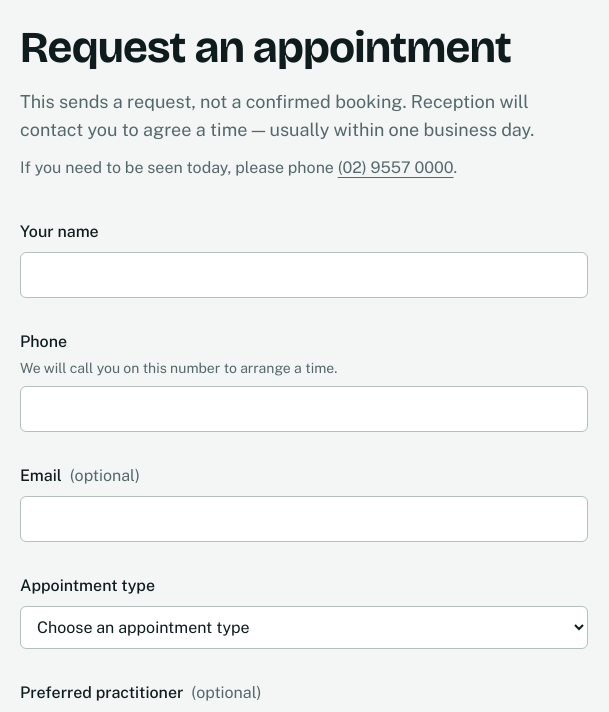
Scenario: Book › preserves what was typed when the network fails
Type "Jo Nguyen" into the field labelled "Your name" at [304, 274], box [20,252,588,298]
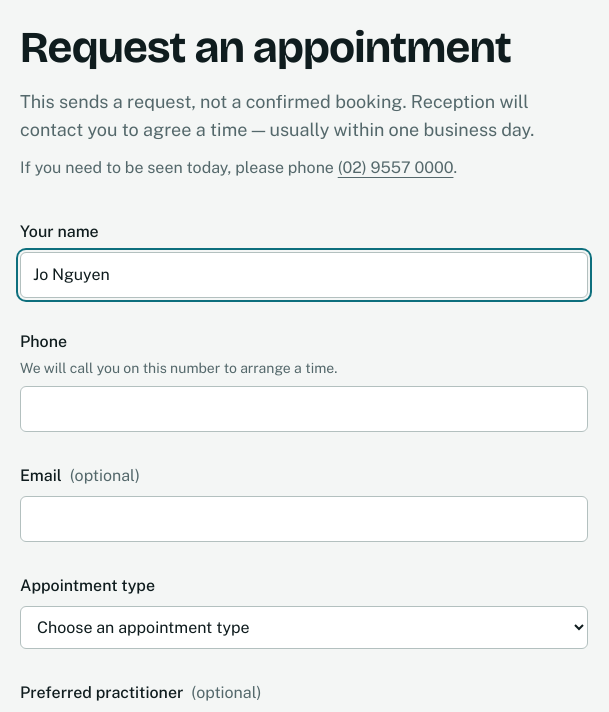
Type "0412345678" into the field labelled "Phone" at [304, 408], box [20,386,588,432]
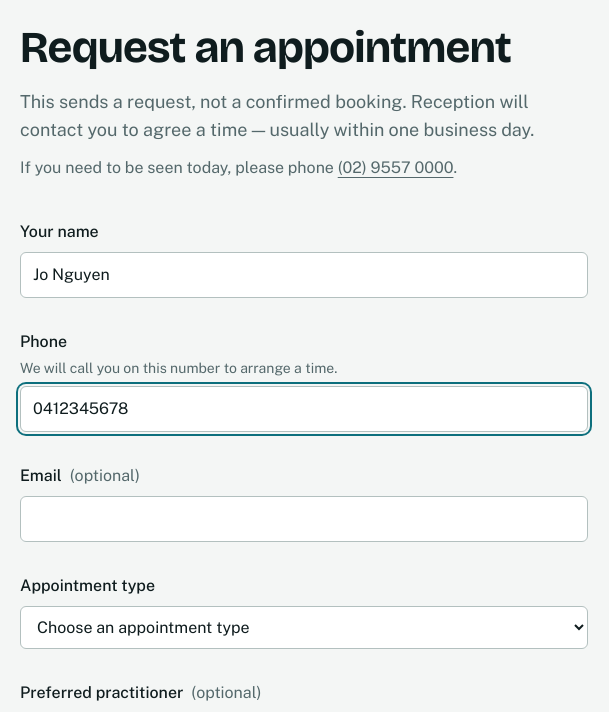
Select "Initial physiotherapy consultation — 45 min, $145" in the dropdown labelled "Appointment type" at [304, 627], box [20,606,588,648]
(page scrolled)
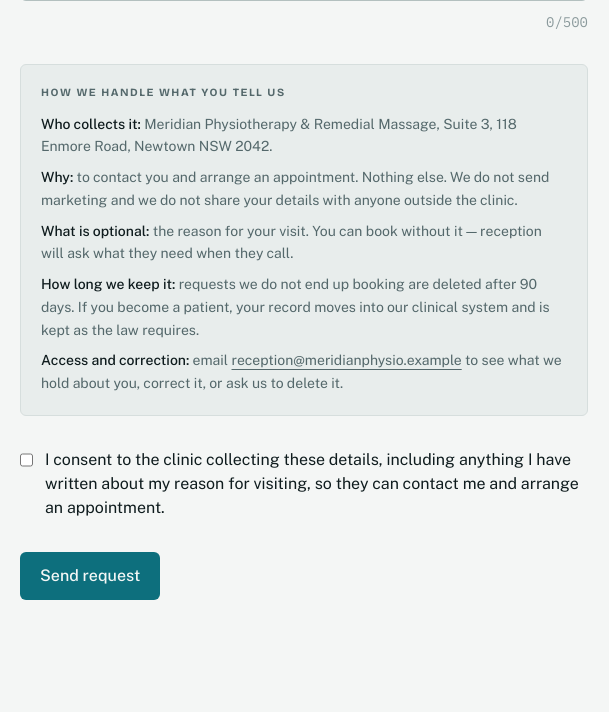
Click the checkbox labelled "I consent" at [26, 460], box [20,452,33,468]
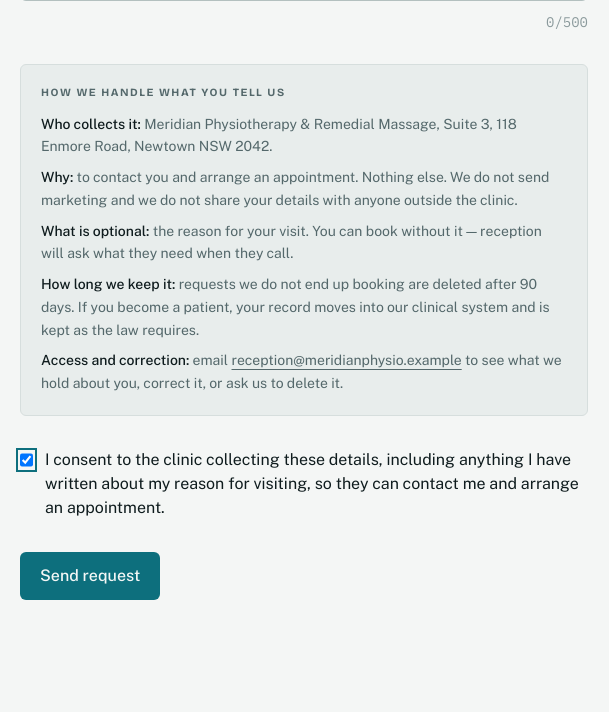
Click the button "Send request" at [90, 576], box [20,552,160,600]
(page scrolled)
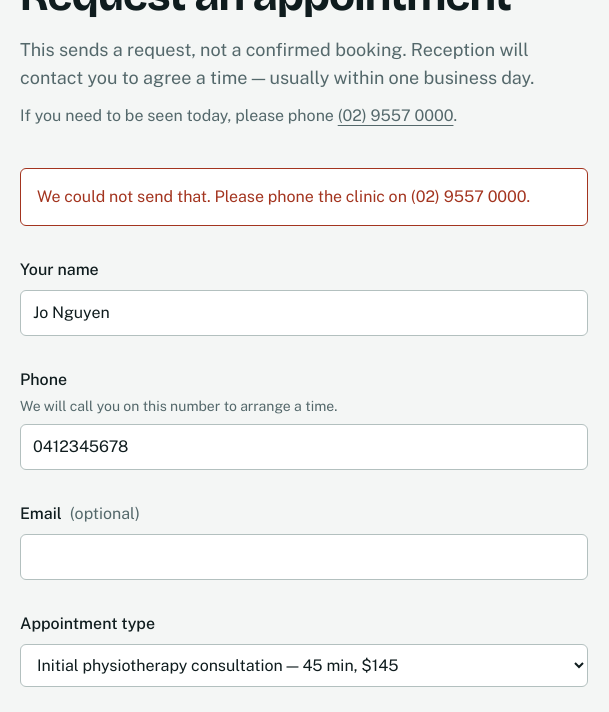
Result: the message shows "phone the clinic" at [37,186,530,206]
